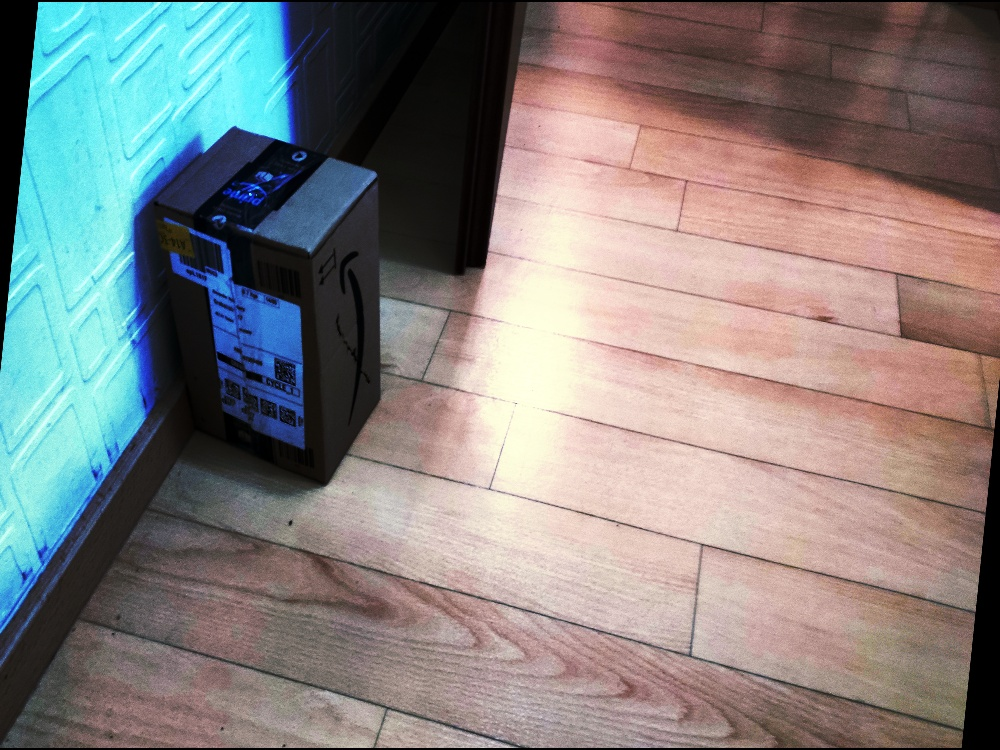good-parcel: (118, 121, 397, 495)
